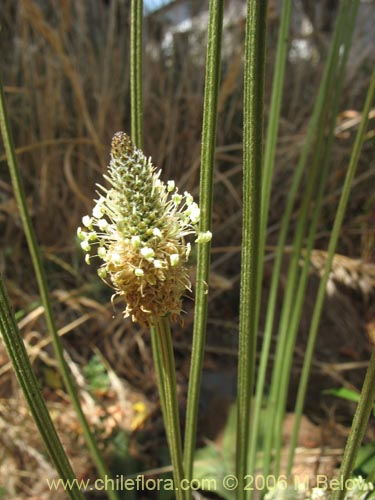buckhorn plantain: (75, 133, 224, 481)
